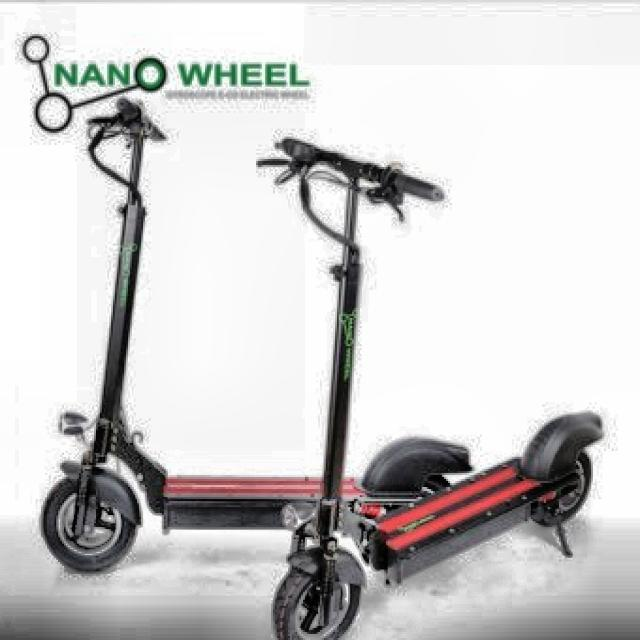bike: (34, 136, 605, 640)
car: (41, 132, 608, 640)
